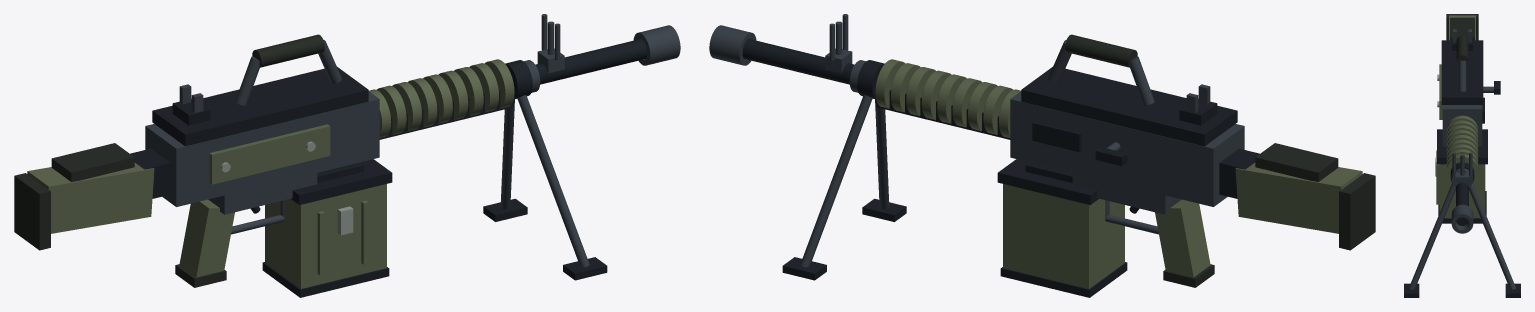
Rendered from light_machine_gun.glb.
3 views of the same model, side by side, from view 1: azimuth 30°, elevation 25°; view 2: azimuth 150°, elevation 25°; view 3: azimuth 270°, elevation 25° (orthographic). The views are drawn at different scales.
Visible parts, largest first — view 1: Receiver, Ammo_box, Top_cover, Stock, Side_plate, Pistol_grip, Butt_pad, Inner_barrel, Cheek_rest, Ammo_box_lid, Bipod_leg_1, Lower_housing (+27 smaller); view 2: Receiver, Ammo_box, Top_cover, Stock, Pistol_grip, Butt_pad, Inner_barrel, Cheek_rest, Ammo_box_lid, Bipod_leg_-1, Lower_housing, Carry_handle_grip (+26 smaller); view 3: Top_cover, Ammo_box, Receiver, Bipod_leg_-1, Bipod_leg_1, Ammo_box_lid, Hollow_muzzle, Cheek_rest, Inner_barrel, Carry_handle_grip, Carry_handle_front, Handguard_rib_9 (+23 smaller).
Part boxes in pixels (x1=…): Receiver: x1=145, y1=91, x2=379, y2=206; Ammo_box: x1=265, y1=184, x2=386, y2=288; Top_cover: x1=152, y1=67, x2=368, y2=146; Stock: x1=27, y1=162, x2=154, y2=233; Side_plate: x1=209, y1=124, x2=330, y2=184; Pistol_grip: x1=179, y1=199, x2=234, y2=277; Butt_pad: x1=14, y1=173, x2=50, y2=250; Inner_barrel: x1=389, y1=39, x2=647, y2=112; Cheek_rest: x1=51, y1=143, x2=134, y2=181; Ammo_box_lid: x1=291, y1=159, x2=392, y2=204; Bipod_leg_1: x1=517, y1=95, x2=589, y2=267; Lower_housing: x1=208, y1=173, x2=317, y2=214; Receiver: x1=1010, y1=91, x2=1244, y2=206; Ammo_box: x1=1003, y1=184, x2=1124, y2=288; Top_cover: x1=1021, y1=67, x2=1237, y2=146; Stock: x1=1235, y1=162, x2=1362, y2=233; Pistol_grip: x1=1155, y1=199, x2=1210, y2=277; Butt_pad: x1=1339, y1=173, x2=1375, y2=250; Inner_barrel: x1=742, y1=39, x2=1000, y2=112; Cheek_rest: x1=1255, y1=143, x2=1338, y2=181; Ammo_box_lid: x1=997, y1=159, x2=1098, y2=204; Bipod_leg_-1: x1=800, y1=95, x2=872, y2=267; Lower_housing: x1=1072, y1=173, x2=1181, y2=214; Carry_handle_grip: x1=1065, y1=34, x2=1137, y2=67; Top_cover: x1=1441, y1=40, x2=1483, y2=104; Ammo_box: x1=1439, y1=164, x2=1485, y2=218; Receiver: x1=1442, y1=105, x2=1482, y2=146; Bipod_leg_-1: x1=1469, y1=183, x2=1515, y2=289; Bipod_leg_1: x1=1409, y1=183, x2=1455, y2=289; Ammo_box_lid: x1=1437, y1=129, x2=1487, y2=164; Hollow_muzzle: x1=1451, y1=204, x2=1473, y2=233; Cheek_rest: x1=1450, y1=17, x2=1474, y2=40; Inner_barrel: x1=1456, y1=182, x2=1468, y2=225; Carry_handle_grip: x1=1456, y1=35, x2=1468, y2=64; Carry_handle_front: x1=1458, y1=60, x2=1466, y2=91; Handguard_rib_9: x1=1446, y1=154, x2=1478, y2=179.
Bounding box in the file's own units: 6.82 × 2.66 × 1.68.
